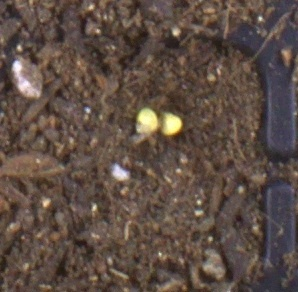chilli seed: (160, 109, 183, 136), (136, 107, 159, 132)
